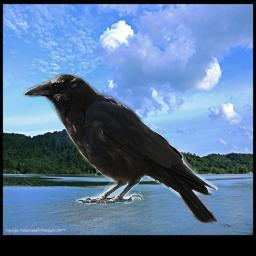Crow: (23, 73, 218, 224)
